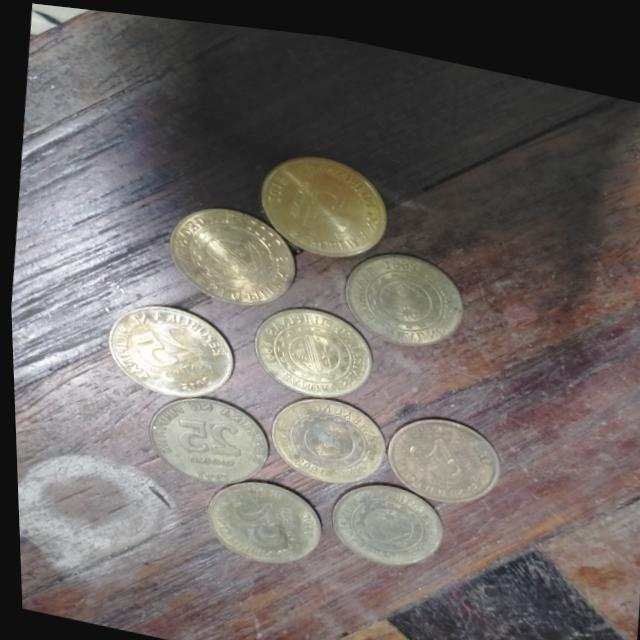25Cent_Old_Back: (173, 204, 283, 299), (350, 244, 458, 339), (255, 300, 365, 391), (278, 387, 379, 475), (332, 474, 433, 559)
25Cent_Old_Front: (151, 393, 257, 484), (113, 304, 214, 392), (266, 154, 372, 237), (213, 481, 311, 556)
